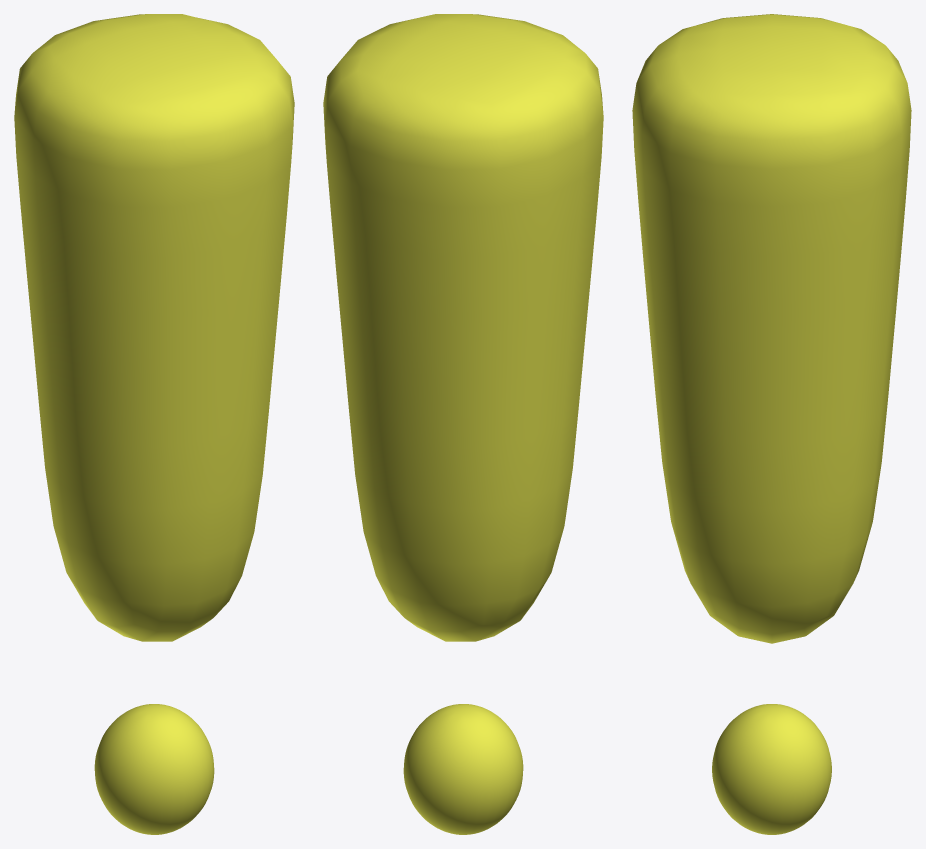
Rendered from Exclamation_Mark_01.fbx.
3 renders of one model, left to right at view 1: azimuth 30°, elevation 25°; view 2: azimuth 150°, elevation 25°; view 3: azimuth 270°, elevation 25°, orthographic.
Visible parts, largest first — view 1: Exclamation_Mark_01; view 2: Exclamation_Mark_01; view 3: Exclamation_Mark_01.
Part boxes in pixels (x1=…): Exclamation_Mark_01: x1=14, y1=14, x2=294, y2=834; Exclamation_Mark_01: x1=323, y1=14, x2=603, y2=834; Exclamation_Mark_01: x1=632, y1=14, x2=911, y2=834.
Bounding box in the file's own units: 32.09 × 99.46 × 32.13.
